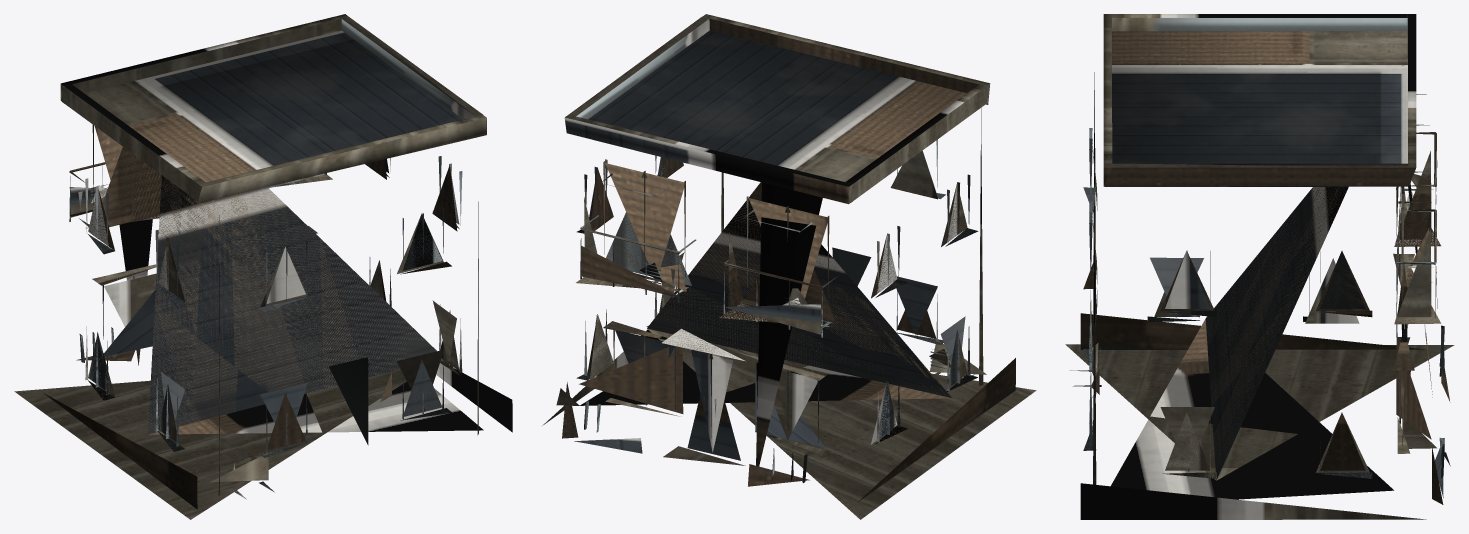
The model's file is residential_004.lod2.obj.
3 renders of one model, left to right at view 1: azimuth 30°, elevation 25°; view 2: azimuth 150°, elevation 25°; view 3: azimuth 270°, elevation 25°, orthographic. The views are drawn at different scales.
Parts seen in each view (by area): view 1: residential_004; view 2: residential_004; view 3: residential_004.
Part boxes in pixels (box(x1,y1,x2,y2)): residential_004: box(14, 14, 512, 519); residential_004: box(542, 14, 1036, 519); residential_004: box(1065, 14, 1454, 519).
Bounding box in the file's own units: 7.39 × 6.68 × 6.82.
Materials: 1 (1 with a texture image).
